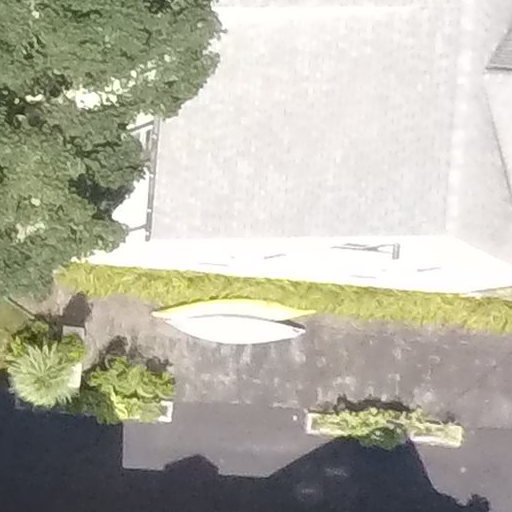flower bed: (295, 399, 468, 452), (5, 390, 182, 426)
kayak: (146, 289, 323, 325), (163, 311, 310, 352)
